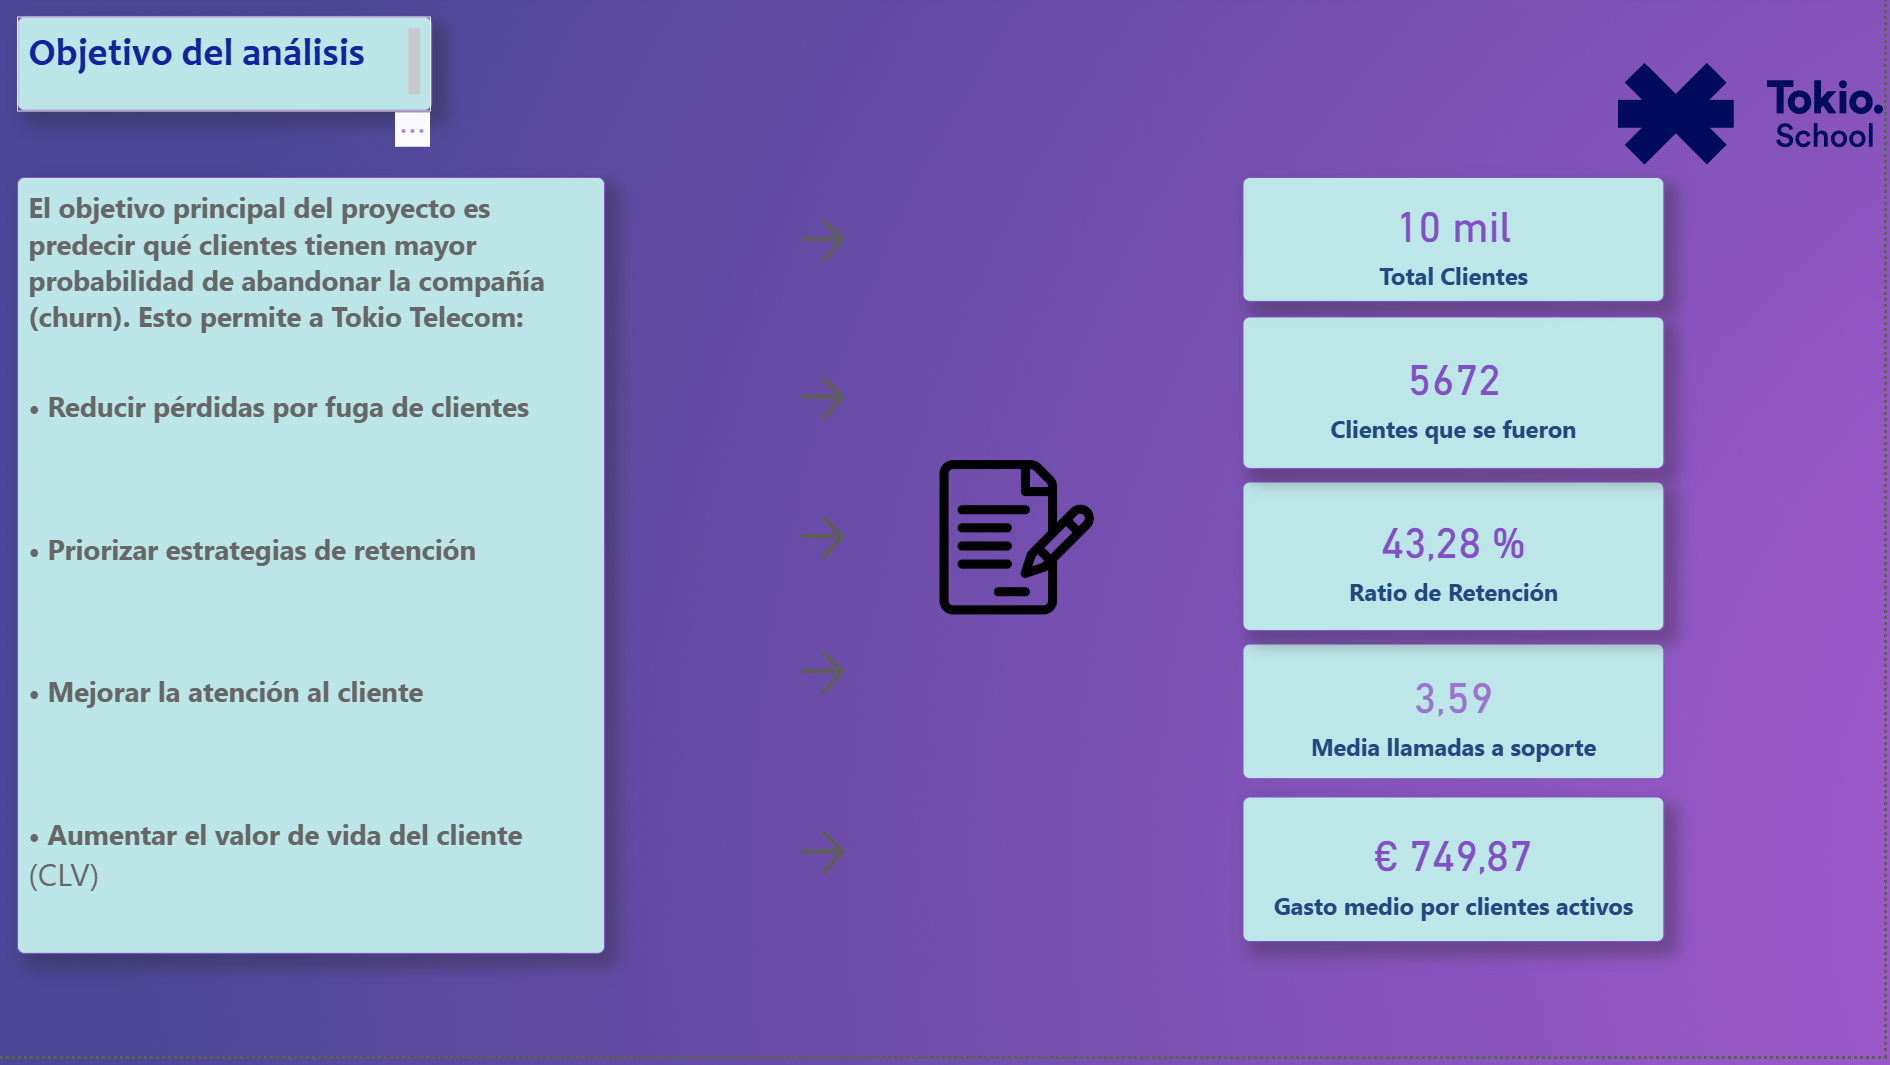

What the dashboard file says about the page in this screenshot:
{"tool":"powerbi","page":{"name":"2- Objetivo del análisis","canvas":[1280,720],"ordinal":1},"visuals":[{"type":"textbox","box":[14,124.4,398.8,526.7],"z":0},{"type":"textbox","box":[14,15.1,281.4,64],"z":1000},{"type":"card","fields":{"Values":["Funciones DAX.Total Clientes"]},"box":[845.4,124.4,286,84.9],"z":2000},{"type":"card","fields":{"Values":["Funciones DAX.Gasto medio por clientes activos"]},"box":[845.4,544.2,286,98.8],"z":3000},{"type":"card","fields":{"Values":["Funciones DAX.Media llamadas a soporte"]},"box":[845.4,440.7,286,91.9],"z":4000},{"type":"card","fields":{"Values":["Funciones DAX.Retention Rate"]},"box":[845.4,330.2,286,101.2],"z":5000},{"type":"card","fields":{"Values":["Funciones DAX.Churned Customers"]},"box":[845.4,218.6,286,103.5],"z":6000},{"type":"actionButton","box":[539.5,147.7,100,39.5],"z":7000},{"type":"actionButton","box":[539.5,254.7,100,39.5],"z":8000},{"type":"actionButton","box":[539.5,348.8,100,39.5],"z":9000},{"type":"actionButton","box":[539.5,440.7,100,39.5],"z":10000},{"type":"actionButton","box":[539.5,562.8,100,39.5],"z":11000},{"type":"image","box":[639.5,177.9,104.7,380.2],"z":12000},{"type":"image","box":[1099.8,0,180.2,162.8],"z":13000}]}

Visuals, with their boxes in screenshot pixels (x1, y1, x2, y2), scaled from the page's 1280x720 canvas onto the 1890x1065 screenshot:
textbox: 21,184,610,963
textbox: 21,22,436,117
card - Funciones DAX.Total Clientes: 1248,184,1671,310
card - Funciones DAX.Gasto medio por clientes activos: 1248,805,1671,951
card - Funciones DAX.Media llamadas a soporte: 1248,652,1671,788
card - Funciones DAX.Retention Rate: 1248,488,1671,638
card - Funciones DAX.Churned Customers: 1248,323,1671,476
actionButton: 797,218,944,277
actionButton: 797,377,944,435
actionButton: 797,516,944,574
actionButton: 797,652,944,710
actionButton: 797,832,944,891
image: 944,263,1099,826
image: 1624,0,1889,241
